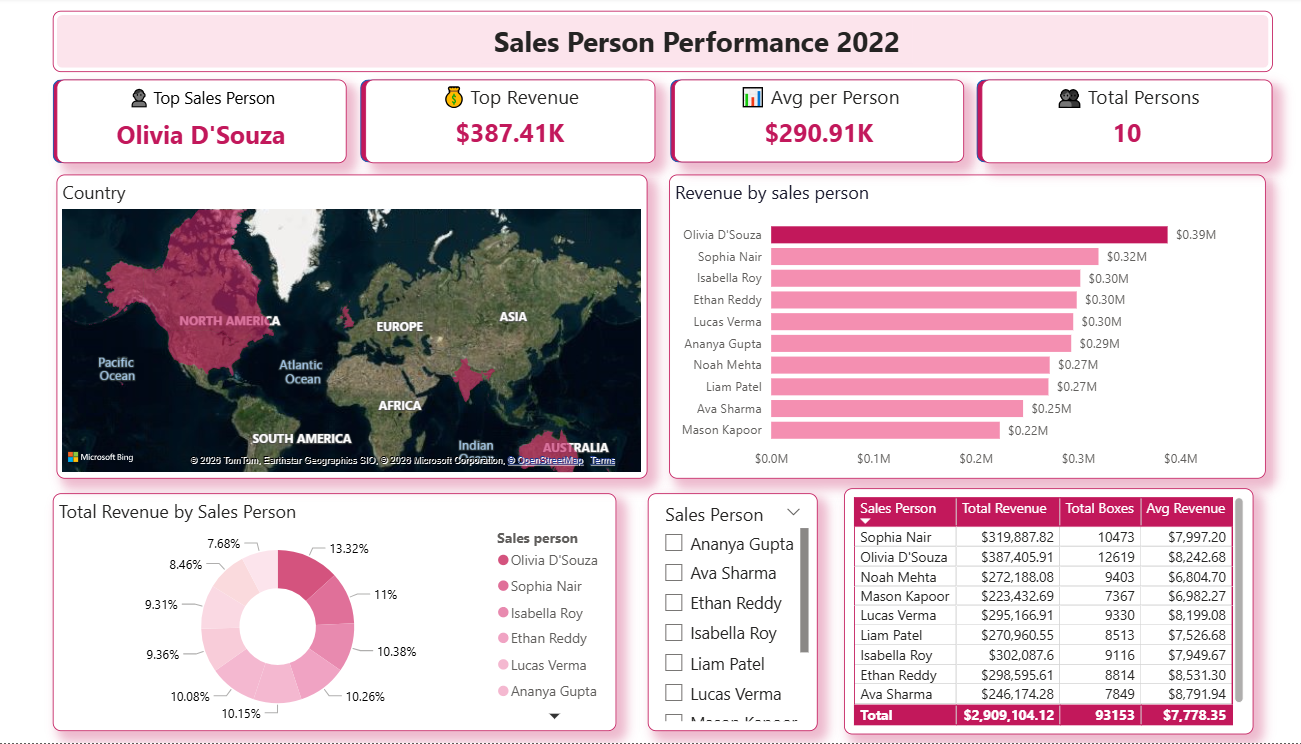

The dashboard page shown, as its layout file describes it:
{"tool":"powerbi","page":{"name":"Sales Person performance 2022","canvas":[1280,720],"ordinal":1},"visuals":[{"type":"shape","box":[358.9,79.9,280,80],"z":1000},{"type":"shape","box":[61.5,79.3,280,80.7],"z":2000,"group":"g1"},{"type":"shape","box":[657,79.3,280,80],"z":2000},{"type":"shape","box":[61.5,13.3,1177.5,59.1],"z":3000,"group":"g2"},{"type":"card","title":"📊 Avg per Person","fields":{"Values":["cosmetics_sales_data.Avg Revenue per Person"]},"box":[660.6,79.3,280,80],"z":3000},{"type":"shape","box":[953,79.4,280,80],"z":4000},{"type":"barChart","title":"Revenue by sales person","fields":{"Category":["cosmetics_sales_data.Sales Person"],"Y":["cosmetics_sales_data.Total Revenue"]},"box":[656.7,171.1,576,293.6],"z":5000},{"type":"card","title":"👤 Top Sales Person","fields":{"Values":["cosmetics_sales_data.Top Person"]},"box":[65.7,79.3,279.7,80.7],"z":6000,"group":"g1"},{"type":"donutChart","fields":{"Y":["cosmetics_sales_data.Total Revenue"],"Category":["cosmetics_sales_data.Sales Person"]},"box":[61.2,478.6,544,229.6],"z":6000},{"type":"textbox","box":[475.9,18.9,415.8,45],"z":7000,"group":"g2"},{"type":"group","id":"g1","title":"Group 1","box":[61.5,79.3,283.8,80.7],"z":7000},{"type":"card","title":"👥 Total Persons","fields":{"Values":["cosmetics_sales_data.Total Sales Persons"]},"box":[957.5,79.3,281,80.7],"z":8000},{"type":"card","title":"💰 Top Revenue","fields":{"Values":["cosmetics_sales_data.Top Person Revenue"]},"box":[363.4,79.3,279.7,80.7],"z":9000},{"type":"tableEx","fields":{"Values":["cosmetics_sales_data.Sales Person","cosmetics_sales_data.Total Revenue","cosmetics_sales_data.Total Boxes","cosmetics_sales_data.Avg Revenue"]},"box":[825,474.4,395.1,237.9],"z":10000},{"type":"group","id":"g2","title":"Group 5","box":[61.5,13.3,1177.5,59.1],"z":11000},{"type":"slicer","fields":{"Values":["cosmetics_sales_data.Sales Person"]},"box":[635.8,478.6,164.2,229.6],"z":12000},{"type":"filledMap","fields":{"Category":["cosmetics_sales_data.Country"]},"box":[65.4,171.1,570.4,293.6],"z":13000}]}

Visuals, with their boxes in screenshot pixels (x1, y1, x2, y2), scaled from the page's 1280x720 canvas onto the 1301x744 screenshot:
shape: 365:83:649:165
shape: 63:82:347:165
shape: 668:82:952:165
shape: 63:14:1259:75
"📊 Avg per Person" card: 671:82:956:165
shape: 969:82:1253:165
"Revenue by sales person" barChart: 667:177:1253:480
"👤 Top Sales Person" card: 67:82:351:165
donutChart - cosmetics_sales_data.Total Revenue x cosmetics_sales_data.Sales Person: 62:495:615:732
textbox: 484:20:906:66
"Group 1" group: 63:82:351:165
"👥 Total Persons" card: 973:82:1259:165
"💰 Top Revenue" card: 369:82:654:165
tableEx - cosmetics_sales_data.Sales Person x cosmetics_sales_data.Total Revenue: 839:490:1240:736
"Group 5" group: 63:14:1259:75
slicer - cosmetics_sales_data.Sales Person: 646:495:813:732
filledMap - cosmetics_sales_data.Country: 66:177:646:480
